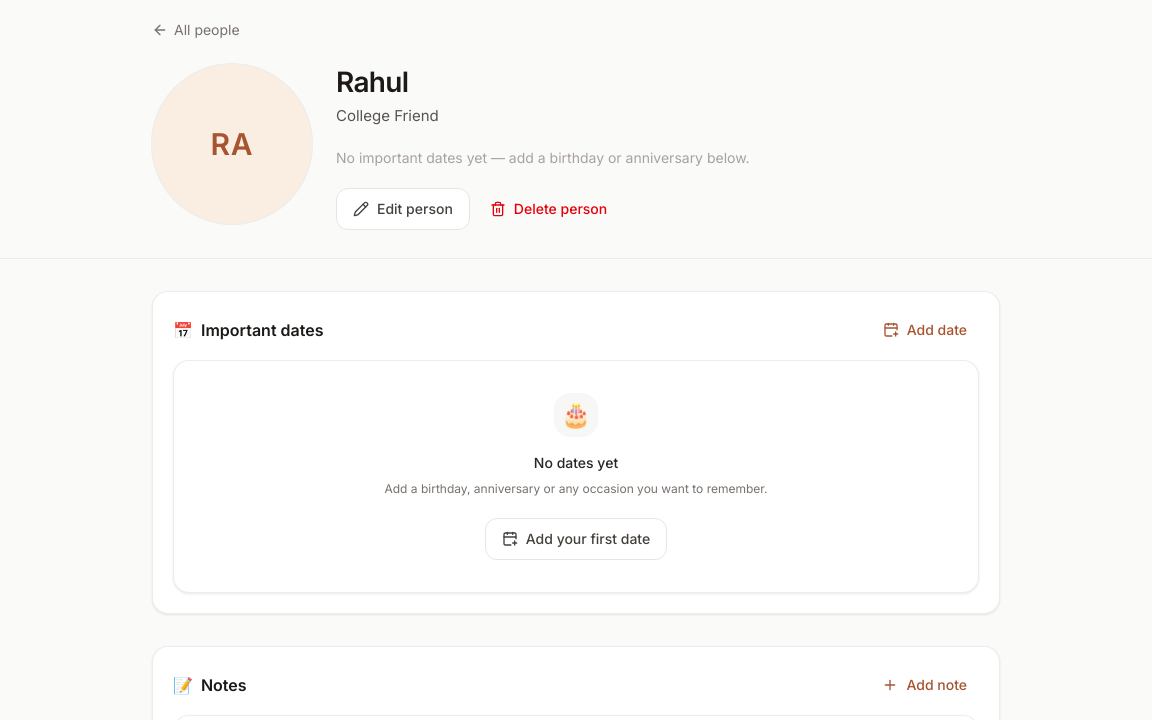
PersonProfilePage › requires a name for a custom event
Expected: the heading "Rahul" is shown, 336,65 -> 408,99
Click the button "Add date": [925, 330] box 871,312 -> 979,348
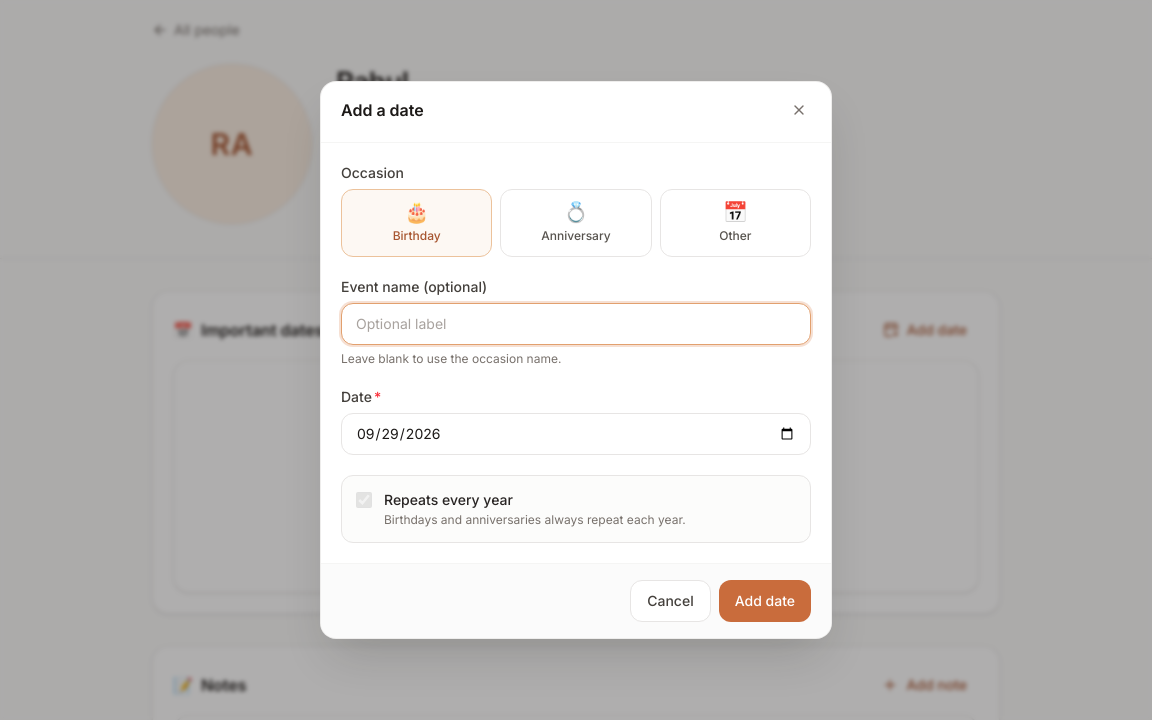
Click the button "📅 Other": [735, 223] box 660,189 -> 811,257
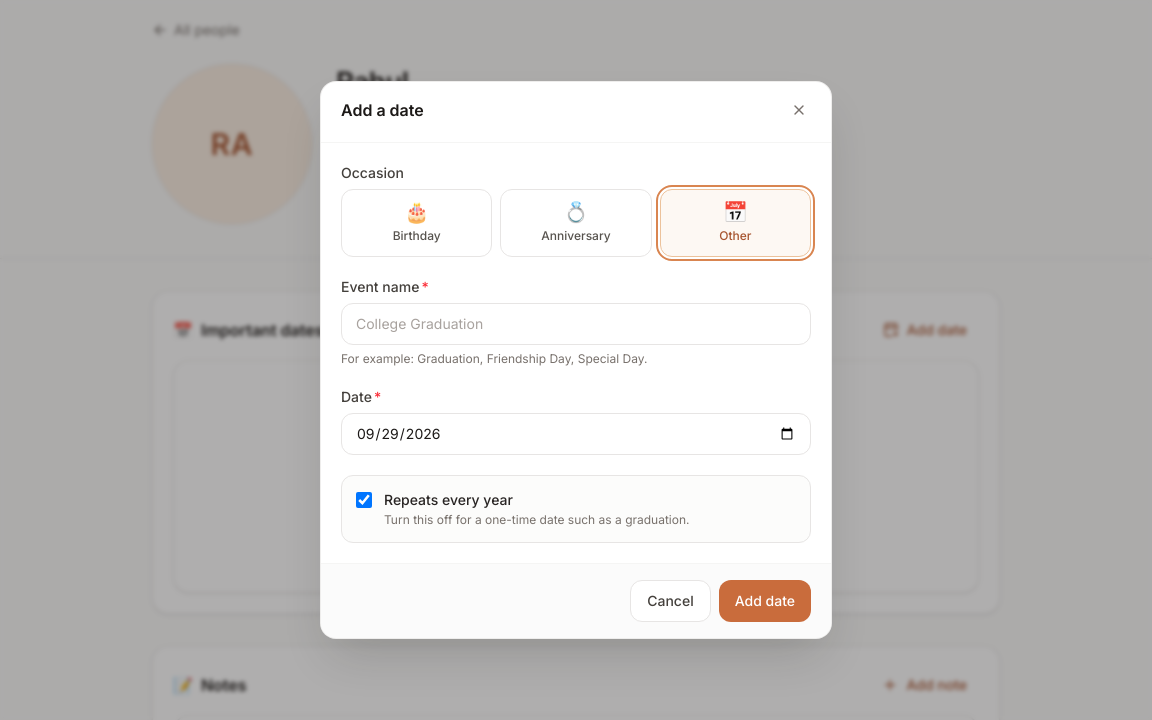
Click the button "Add date": [765, 601] box 719,580 -> 811,622
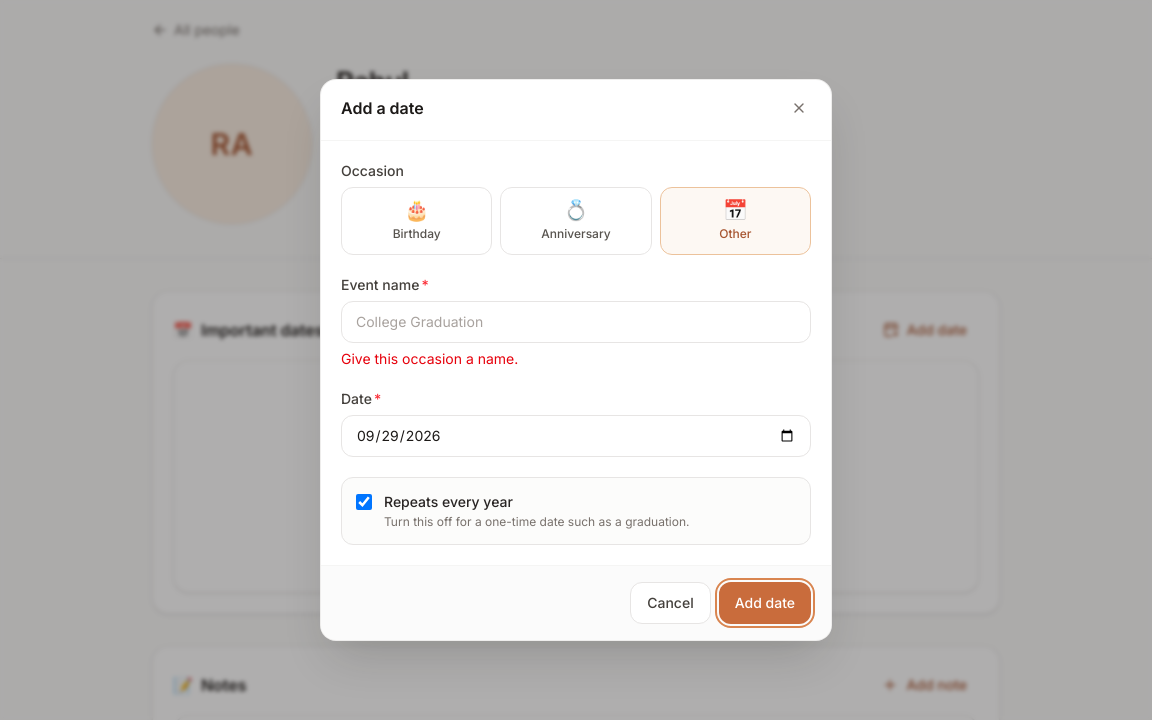
Now the text "Give this occasion a name." is shown, box 341,350 -> 518,367
